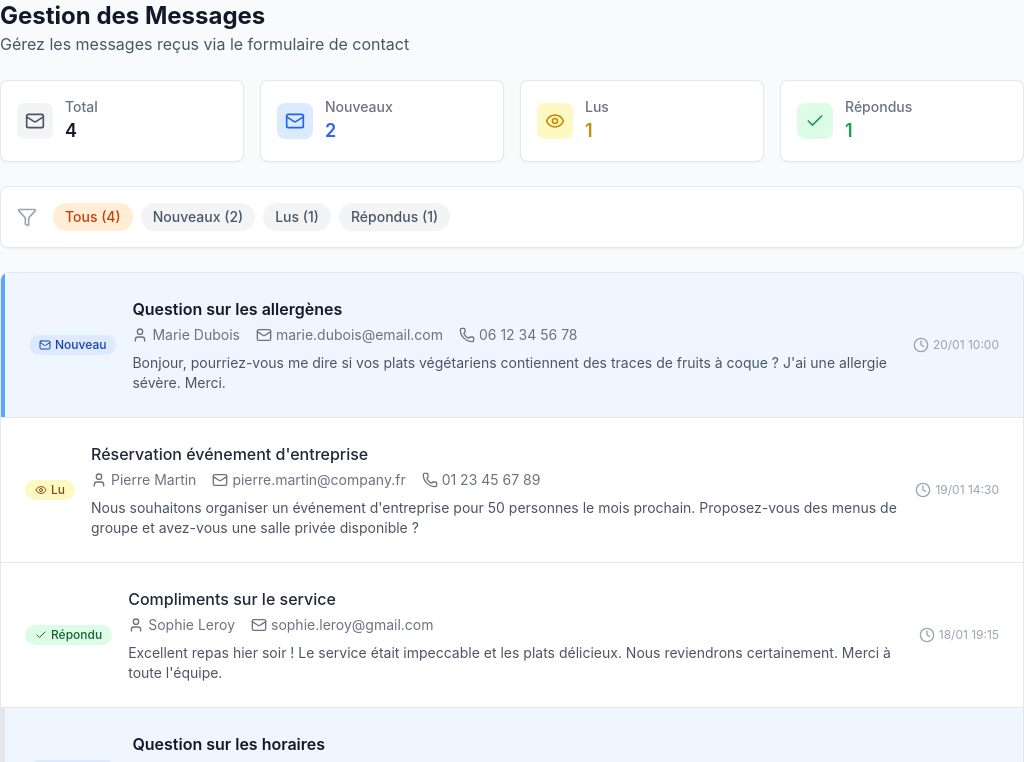
Test: ContactsManagement Component › Message Actions › should open message modal when message is clicked
The image size is (1024, 762).
# Click on the first message
Click the text "Question sur les allergènes" at [512, 345], box [1,273,1023,417]
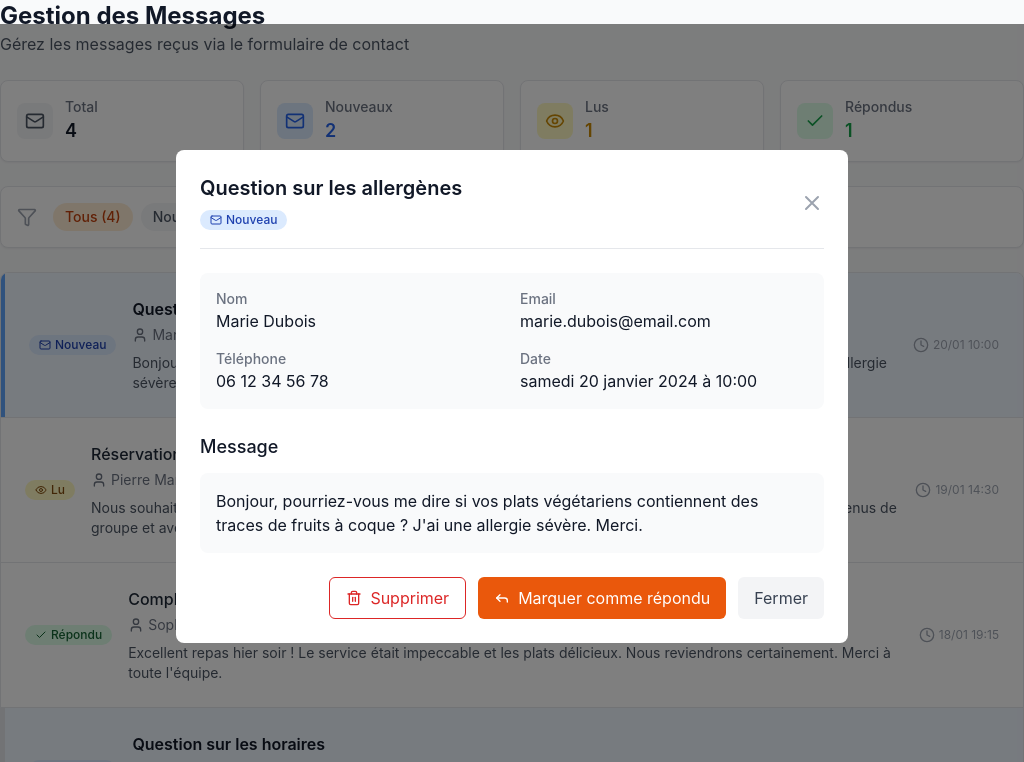
Check: the heading "Message" is shown, box [200,436,278,456]
